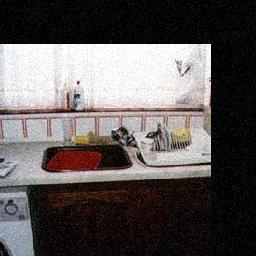Electrodomestico: (0, 186, 44, 256)
Lavaplatos: (39, 128, 135, 170)
